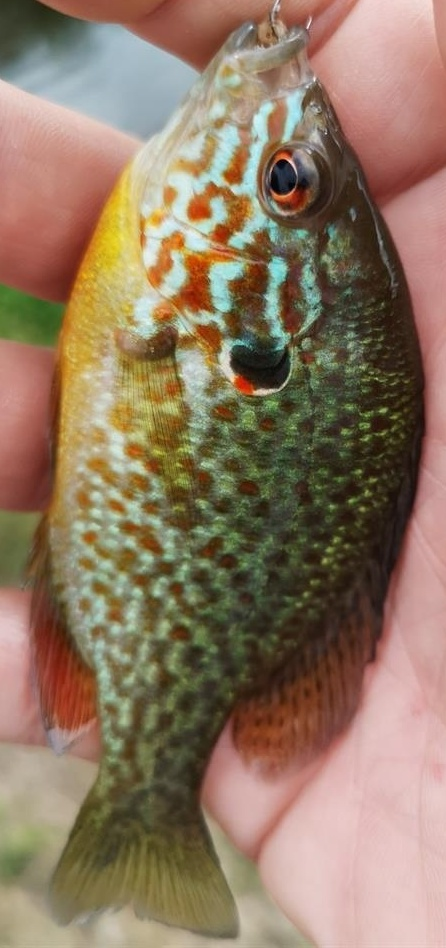Lepomis gibbosus: (20, 20, 426, 939)
